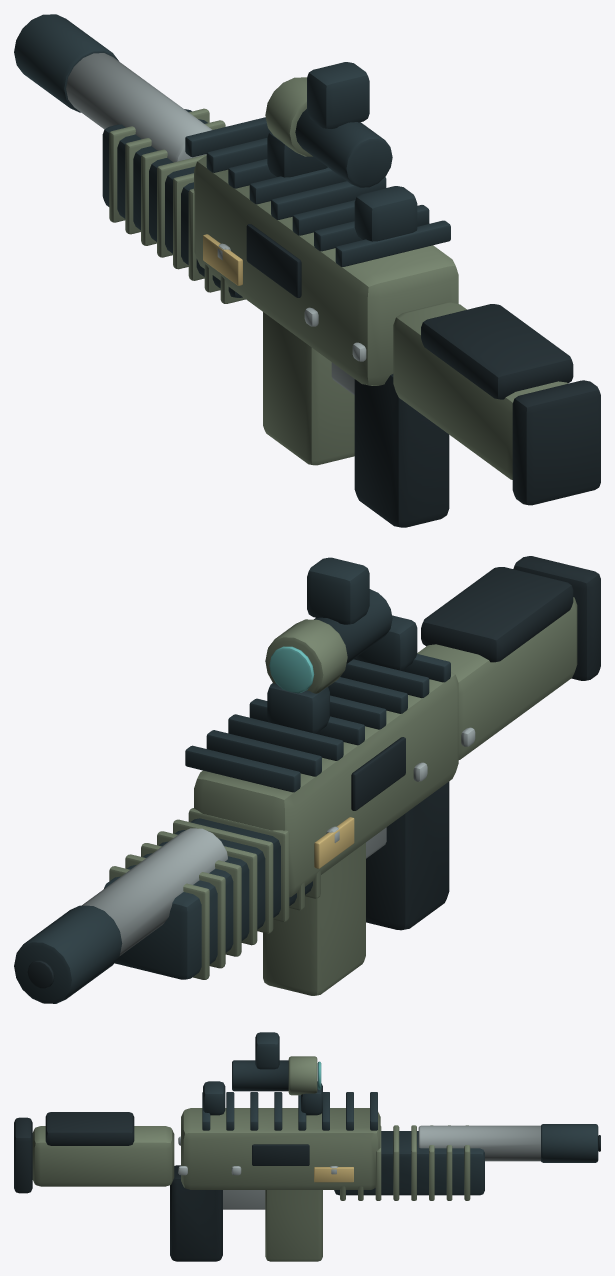
File: kf-weapon-rifle.glb
3 renders of one model, top to bottom at view 1: azimuth 30°, elevation 25°; view 2: azimuth 150°, elevation 25°; view 3: azimuth 270°, elevation 25°, orthographic. The views are drawn at different scales.
Parts seen in each view (by area): view 1: Weapon Painted receiver, Weapon Gunmetal, Weapon Grip rubber, Weapon Machined steel, Weapon Markings; view 2: Weapon Painted receiver, Weapon Gunmetal, Weapon Grip rubber, Weapon Machined steel, Weapon Lens, Weapon Markings; view 3: Weapon Painted receiver, Weapon Gunmetal, Weapon Grip rubber, Weapon Machined steel, Weapon Markings.
Boxes of the visible parts, x1,y1,x2,y2 form: Weapon Painted receiver: [109, 77, 567, 479]; Weapon Gunmetal: [14, 14, 450, 297]; Weapon Grip rubber: [246, 224, 600, 527]; Weapon Machined steel: [66, 53, 366, 394]; Weapon Markings: [203, 234, 242, 285]; Weapon Painted receiver: [109, 597, 577, 995]; Weapon Gunmetal: [14, 557, 450, 1003]; Weapon Grip rubber: [27, 556, 600, 988]; Weapon Machined steel: [82, 727, 475, 955]; Weapon Lens: [269, 646, 314, 693]; Weapon Markings: [314, 817, 354, 868]; Weapon Painted receiver: [32, 1056, 470, 1261]; Weapon Gunmetal: [202, 1032, 598, 1195]; Weapon Grip rubber: [14, 1112, 600, 1261]; Weapon Machined steel: [178, 1125, 540, 1209]; Weapon Markings: [314, 1167, 353, 1182].
Bounding box in the file's own units: 0.1709 × 0.5465 × 1.32.
